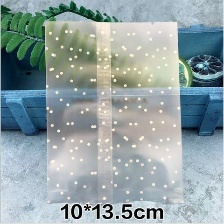snack: (37, 12, 190, 210)
